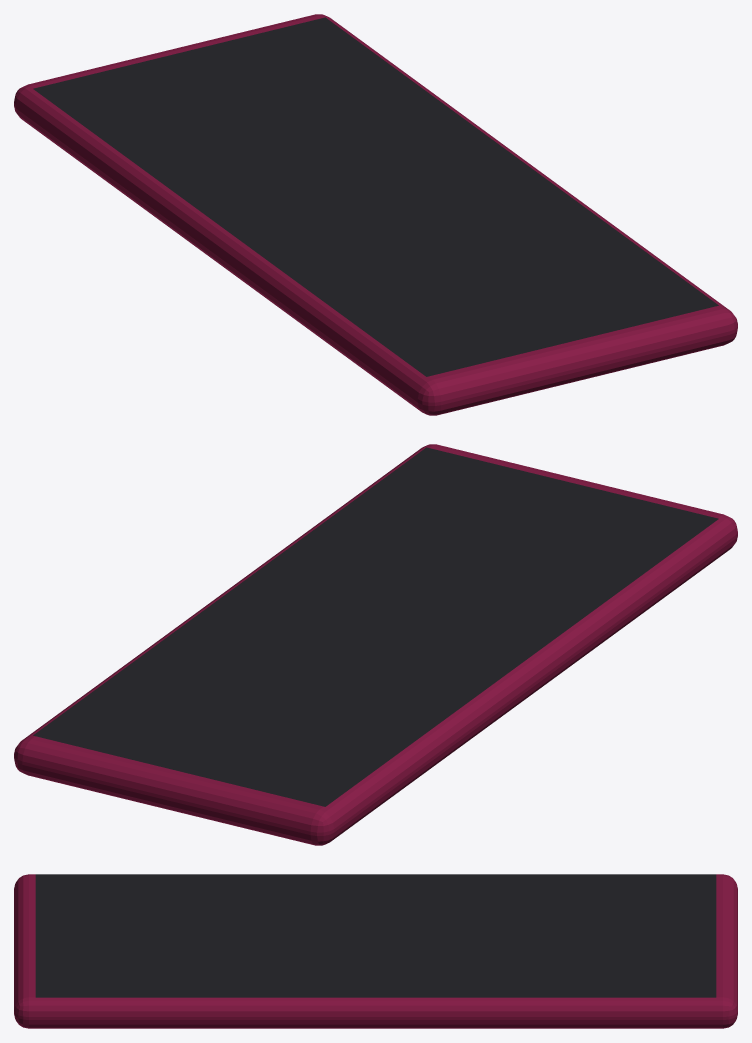
Rendered from google-pixel-a-model-383-mid-range-2022.glb.
The picture shows the model from 3 angles, top to bottom: view 1: azimuth 30°, elevation 25°; view 2: azimuth 150°, elevation 25°; view 3: azimuth 270°, elevation 25°; orthographic projection. The views are drawn at different scales.
Visible parts, largest first — view 1: Phone_Screen, Phone_Body; view 2: Phone_Screen, Phone_Body; view 3: Phone_Screen, Phone_Body.
Boxes of the visible parts, x1=… form: Phone_Screen: x1=33, y1=17, x2=718, y2=376; Phone_Body: x1=14, y1=14, x2=737, y2=415; Phone_Screen: x1=33, y1=447, x2=718, y2=806; Phone_Body: x1=14, y1=444, x2=737, y2=845; Phone_Screen: x1=35, y1=874, x2=716, y2=997; Phone_Body: x1=14, y1=874, x2=737, y2=1028.
Bounding box in the file's own units: 0.0719 × 0.0076 × 0.164.
